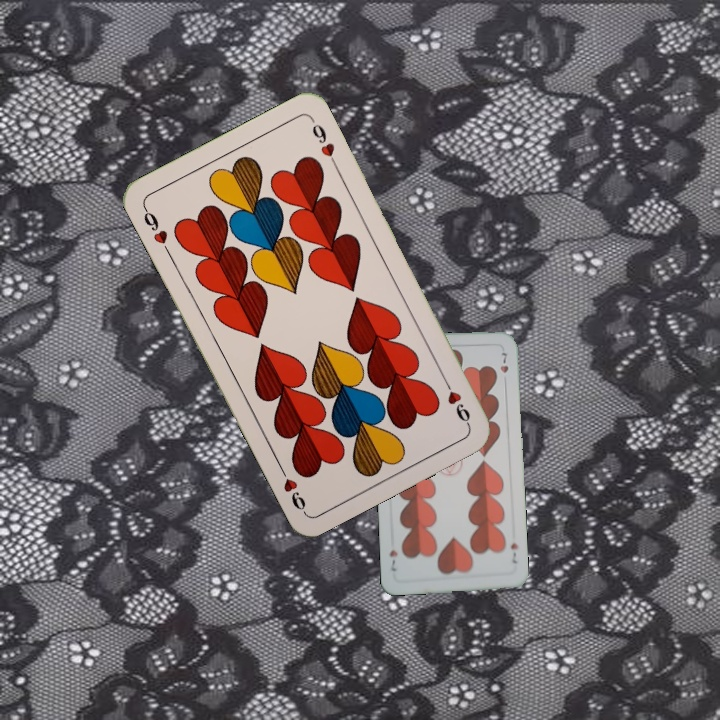H7: (506, 539, 520, 566)
H9: (438, 373, 473, 428), (139, 202, 173, 257)
